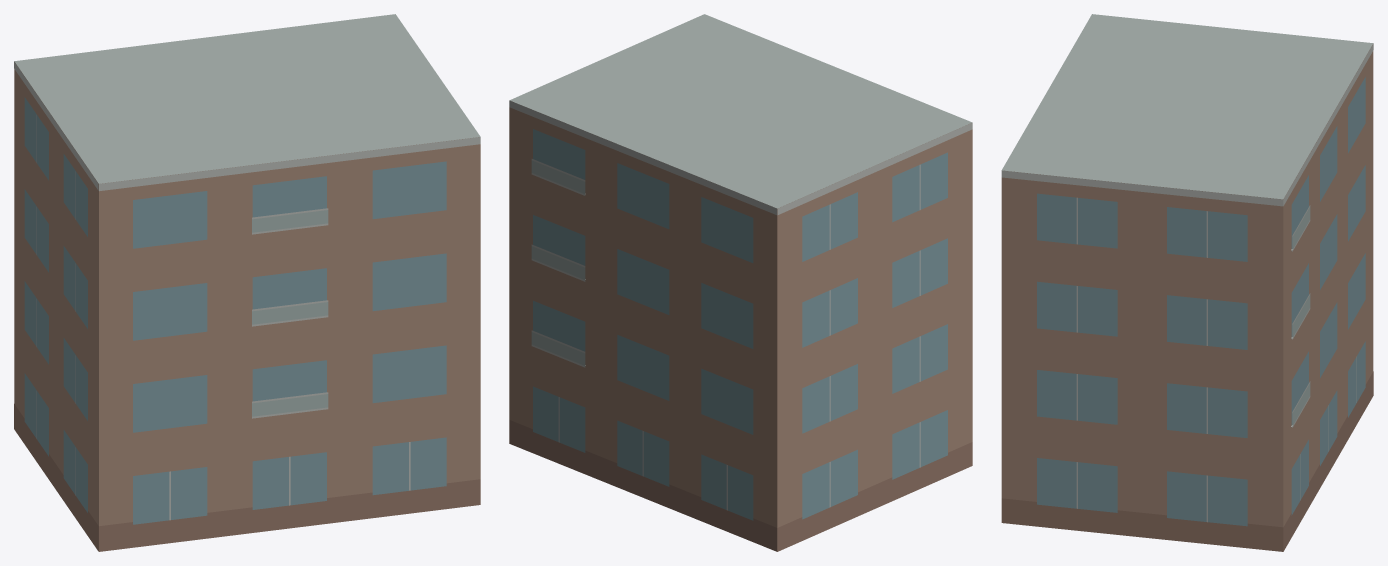
The model's file is residential-1d96251f-71c7-4ecc-ab74-dcef85af58dc.glb.
The picture shows the model from 3 angles, left to right: view 1: azimuth 30°, elevation 25°; view 2: azimuth 150°, elevation 25°; view 3: azimuth 270°, elevation 25°; orthographic projection. The views are drawn at different scales.
Visible parts, largest first — view 1: residential-1d96251f-71c7-4ecc-ab74-dcef85af58dc.tmp; view 2: residential-1d96251f-71c7-4ecc-ab74-dcef85af58dc.tmp; view 3: residential-1d96251f-71c7-4ecc-ab74-dcef85af58dc.tmp.
Part boxes in pixels (box(x1,y1,x2,y2)): residential-1d96251f-71c7-4ecc-ab74-dcef85af58dc.tmp: box(14, 14, 480, 551); residential-1d96251f-71c7-4ecc-ab74-dcef85af58dc.tmp: box(509, 14, 972, 551); residential-1d96251f-71c7-4ecc-ab74-dcef85af58dc.tmp: box(1001, 14, 1373, 551).
Bounding box in the file's own units: 13.77 × 12.2 × 11.68.
